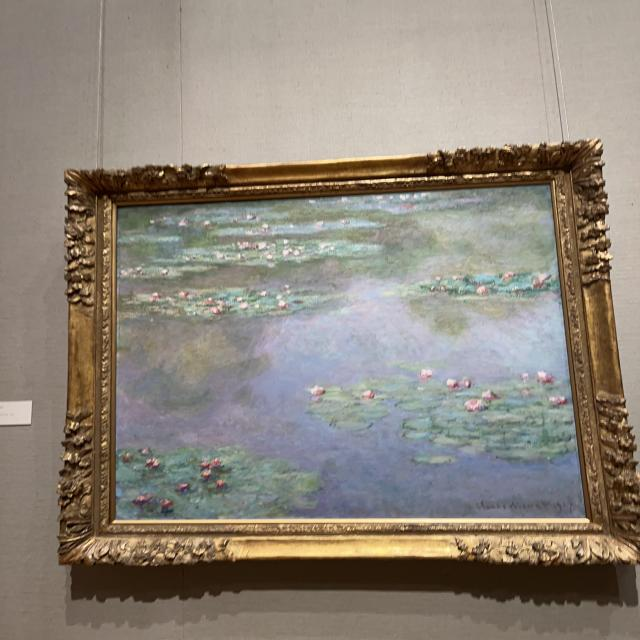lilies: (120, 189, 581, 515)
